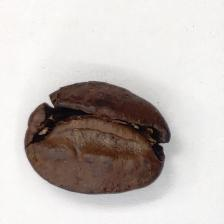NG: (40, 93, 160, 159)
